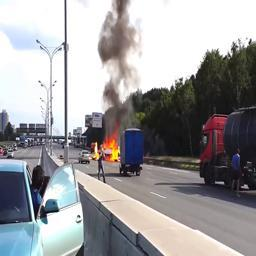fire: (93, 123, 121, 162)
